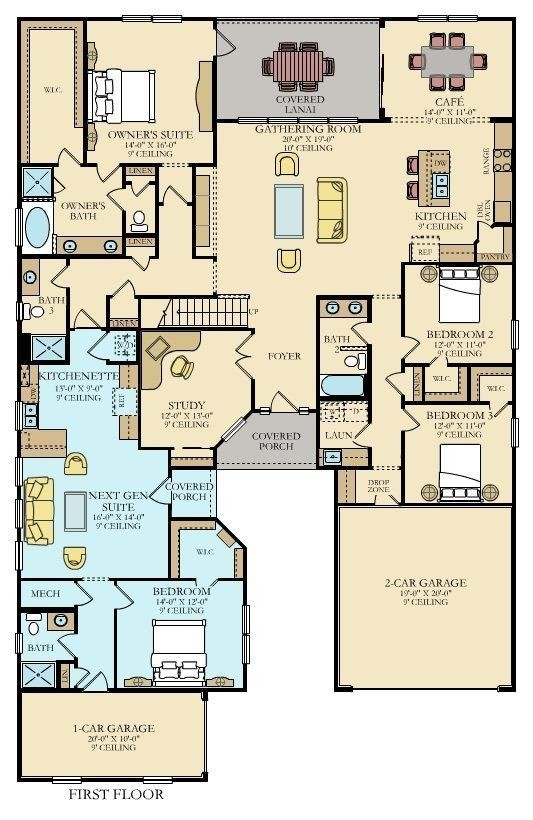door: (218, 335, 254, 376), (375, 366, 398, 398), (71, 305, 100, 327), (118, 583, 138, 613), (45, 262, 65, 292), (86, 334, 106, 364), (147, 478, 167, 508), (101, 184, 121, 214), (126, 258, 159, 274), (92, 167, 118, 187), (269, 389, 294, 408), (349, 318, 368, 342), (404, 409, 422, 434), (87, 669, 109, 689), (160, 184, 184, 201), (405, 334, 422, 358), (80, 585, 98, 607), (54, 632, 72, 654), (56, 145, 78, 162)
room: (10, 446, 171, 582), (80, 13, 219, 170), (111, 574, 248, 694), (134, 324, 259, 454), (398, 259, 517, 368), (398, 400, 518, 507), (15, 14, 89, 168), (312, 293, 376, 403), (10, 606, 87, 693), (313, 394, 372, 471)
window: (416, 11, 481, 25), (119, 12, 184, 26), (239, 604, 252, 666), (509, 415, 523, 452), (140, 773, 172, 788), (50, 772, 82, 787), (508, 318, 522, 352), (13, 539, 25, 573), (13, 497, 25, 530), (13, 456, 25, 488), (13, 401, 25, 432), (12, 633, 24, 655)
